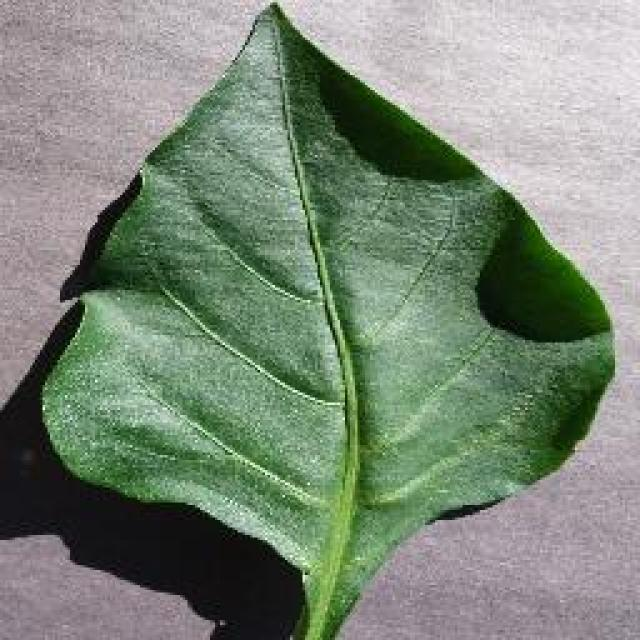Chilli_Healthy: (38, 0, 618, 638)
